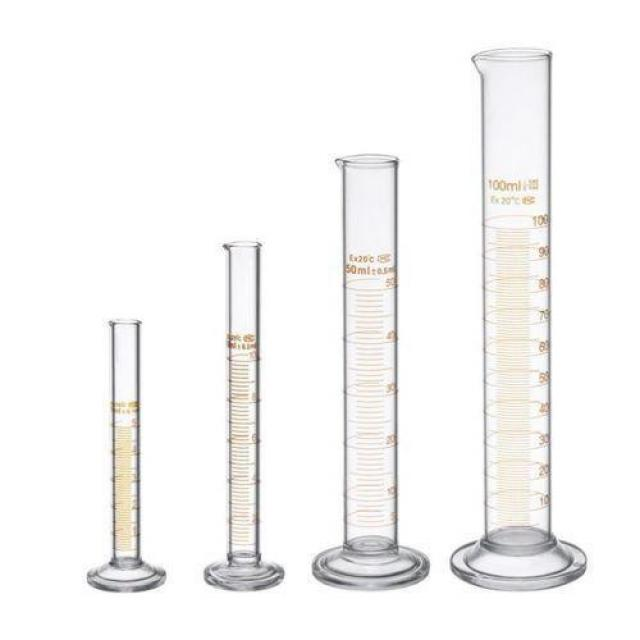non-organic waste: (454, 36, 587, 590), (309, 149, 427, 595), (202, 238, 292, 594), (81, 319, 167, 595)
